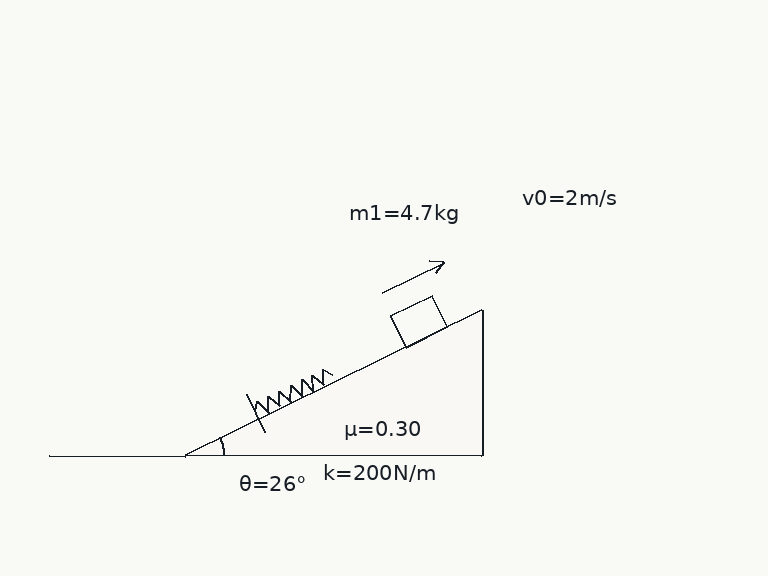block: (388, 294, 449, 349)
ramp: (182, 308, 483, 457)
spring: (252, 367, 334, 414)
